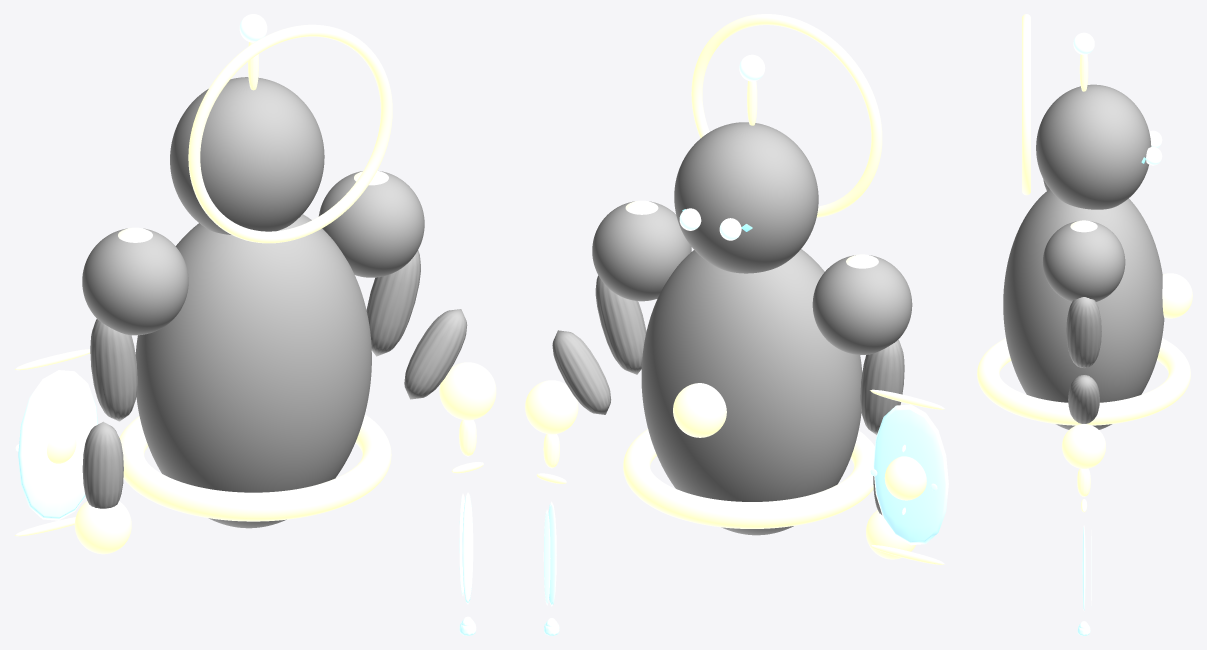
Rendered from class_compiler_r2_v3.glb.
The picture shows the model from 3 angles, left to right: view 1: azimuth 30°, elevation 25°; view 2: azimuth 150°, elevation 25°; view 3: azimuth 270°, elevation 25°; orthographic projection. The views are drawn at different scales.
Parts seen in each view (by area): view 1: body, head, belt, sh_l, shield_b, halo, sh_r, arm_lu, arm_ru, arm_rl, arm_ll, hand_r (+3 smaller); view 2: body, head, belt, sh_l, shield_b, sh_r, halo, arm_ru, arm_rl, arm_lu, emblem, hand_r (+3 smaller); view 3: body, head, belt, sh_r, arm_ru, halo, hand_r, arm_rl, emblem, ant_t, sword_h.
Boxes of the visible parts, left/top/right/bottom form: body: left=135, top=214, right=371, bottom=528; head: left=170, top=77, right=324, bottom=234; belt: left=119, top=414, right=391, bottom=521; sh_l: left=82, top=228, right=188, bottom=335; shield_b: left=18, top=370, right=97, bottom=520; halo: left=188, top=24, right=392, bottom=243; sh_r: left=318, top=171, right=424, bottom=277; arm_lu: left=90, top=319, right=137, bottom=421; arm_ru: left=366, top=250, right=420, bottom=356; arm_rl: left=404, top=309, right=467, bottom=399; arm_ll: left=82, top=421, right=123, bottom=508; hand_r: left=439, top=362, right=496, bottom=420; body: left=641, top=249, right=862, bottom=535; head: left=674, top=122, right=818, bottom=273; belt: left=623, top=429, right=874, bottom=528; sh_l: left=812, top=255, right=912, bottom=354; shield_b: left=873, top=404, right=948, bottom=545; sh_r: left=592, top=201, right=691, bottom=301; halo: left=691, top=14, right=882, bottom=217; arm_ru: left=595, top=275, right=646, bottom=374; arm_rl: left=552, top=330, right=611, bottom=414; arm_lu: left=860, top=339, right=904, bottom=434; emblem: left=673, top=383, right=726, bottom=437; hand_r: left=525, top=380, right=578, bottom=434; body: left=1003, top=189, right=1164, bottom=429; head: left=1036, top=84, right=1151, bottom=209; belt: left=977, top=338, right=1190, bottom=425; sh_r: left=1042, top=221, right=1125, bottom=301; arm_ru: left=1066, top=297, right=1101, bottom=368; halo: left=1022, top=14, right=1030, bottom=195; hand_r: left=1062, top=424, right=1105, bottom=468; arm_rl: left=1068, top=375, right=1099, bottom=423; emblem: left=1162, top=273, right=1192, bottom=318; ant_t: left=1073, top=32, right=1094, bottom=54; sword_h: left=1077, top=468, right=1090, bottom=496.
Size of the model in its own units: 2.15 by 3.06 by 1.12.
